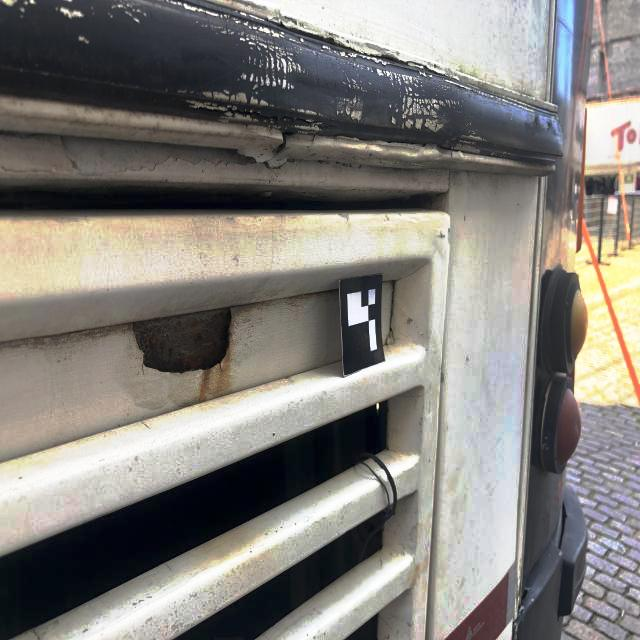Corrosion: (132, 308, 231, 373)
